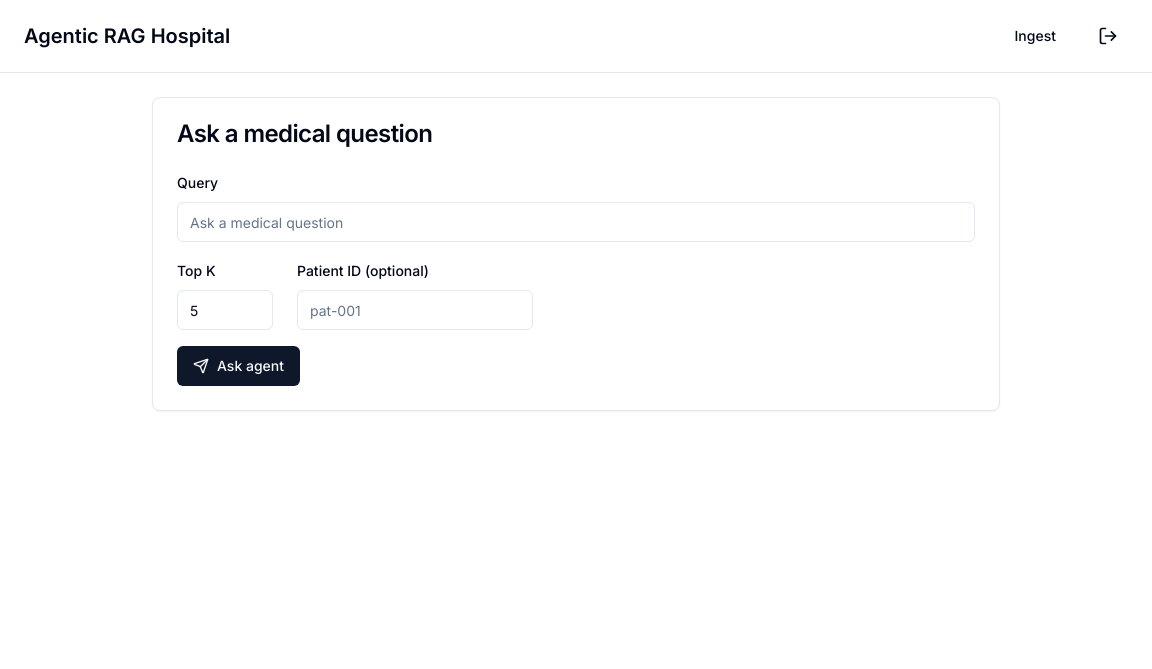
it: ChatPage › submits a query and displays reasoning
Step 1. Type "What is diabetes?" into the field with placeholder "Ask a medical question" → {"x": 576, "y": 222}, box [177,202,975,242]
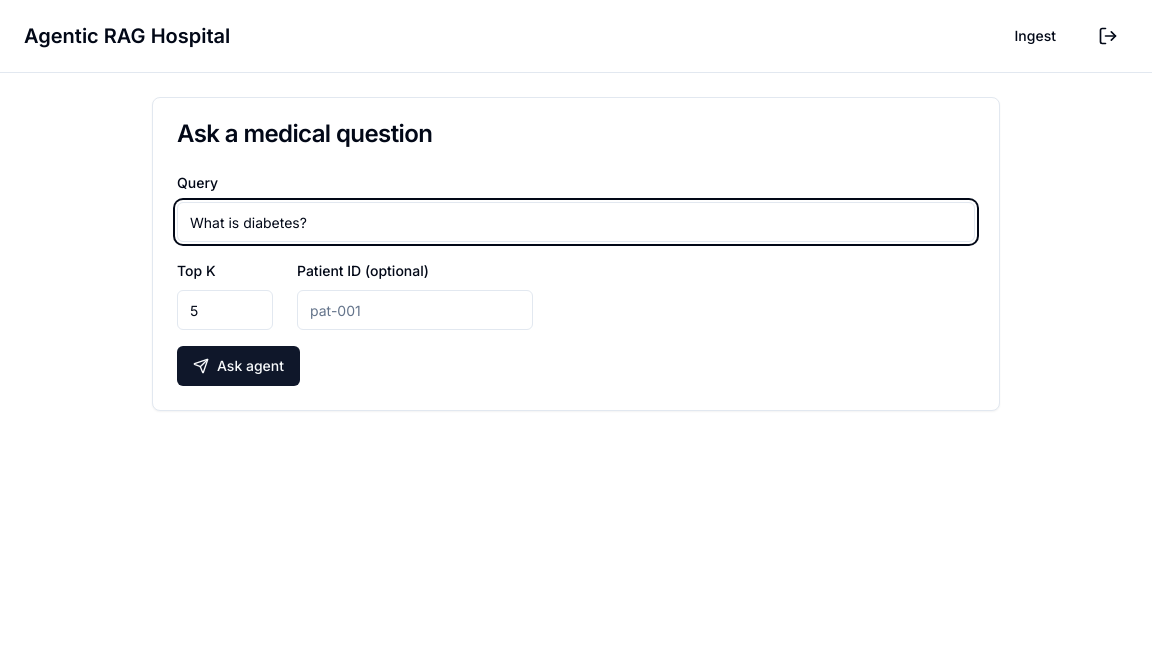
Step 2. Click the button "Ask agent" → {"x": 238, "y": 366}, box [177,346,300,386]
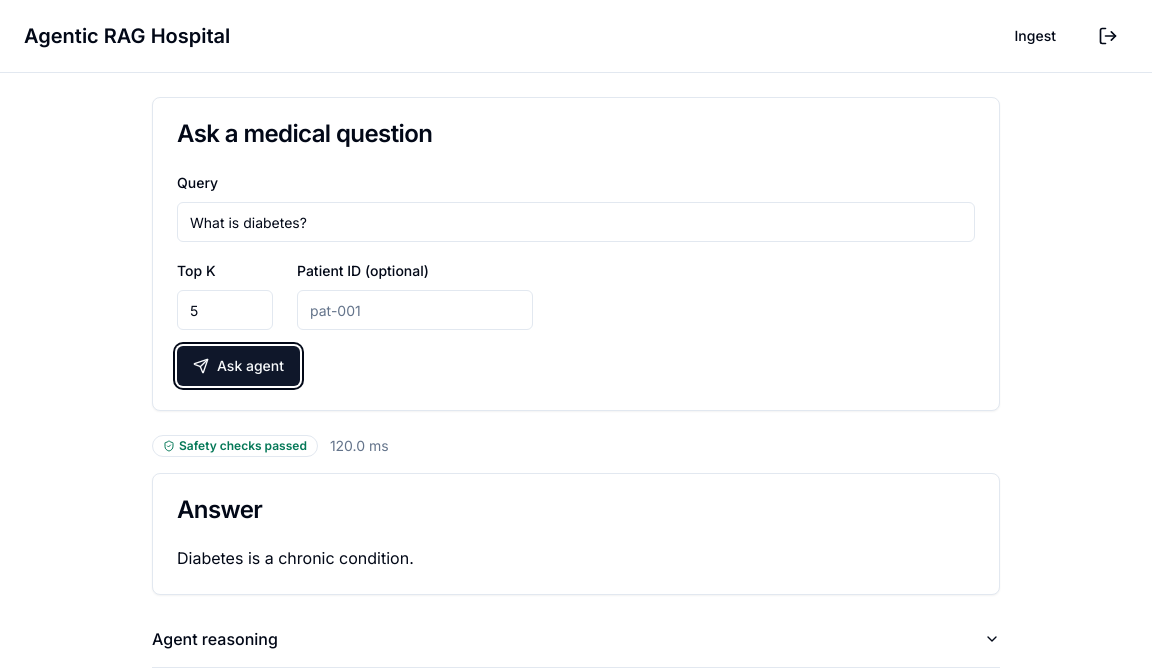
Check: the text "Diabetes is a chronic condition." is shown, box [177,548,414,568]
